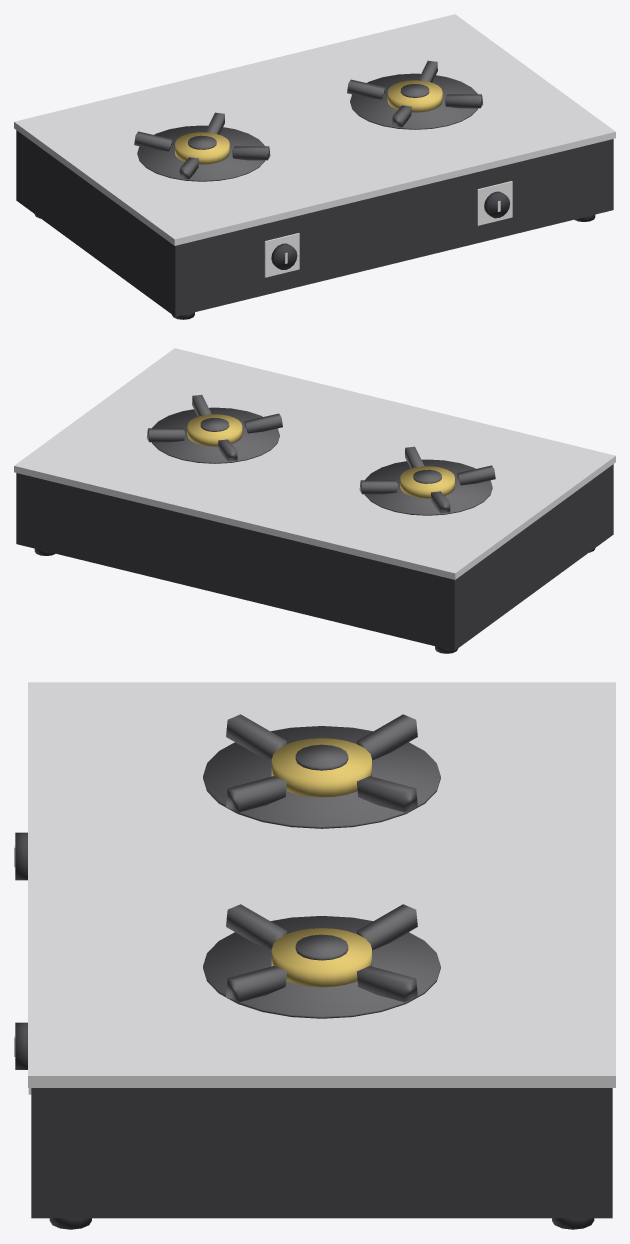
Rendered from Stove.glb.
The picture shows the model from 3 angles, top to bottom: view 1: azimuth 30°, elevation 25°; view 2: azimuth 150°, elevation 25°; view 3: azimuth 270°, elevation 25°; orthographic projection. The views are drawn at different scales.
Parts seen in each view (by area): view 1: Stove_Top_Plate, Stove_Base_Chassis, Stove_Drip_Pan_1, Stove_Drip_Pan_2, Stove_Burner_Head_2, Stove_Burner_Head_1, Stove_Dial_Plate_2, Stove_Dial_Plate_1, Stove_Grate_Finger_1_2, Stove_Grate_Finger_1_4, Stove_Grate_Finger_2_2, Stove_Grate_Finger_2_4 (+2 smaller); view 2: Stove_Top_Plate, Stove_Base_Chassis, Stove_Drip_Pan_1, Stove_Drip_Pan_2, Stove_Burner_Head_2, Stove_Burner_Head_1, Stove_Grate_Finger_1_1, Stove_Grate_Finger_1_3, Stove_Grate_Finger_2_1, Stove_Grate_Finger_2_3; view 3: Stove_Top_Plate, Stove_Base_Chassis, Stove_Drip_Pan_1, Stove_Drip_Pan_2, Stove_Burner_Head_1, Stove_Burner_Head_2, Stove_Grate_Finger_2_1, Stove_Grate_Finger_1_2, Stove_Grate_Finger_2_2, Stove_Grate_Finger_1_1, Stove_Grate_Finger_1_3, Stove_Grate_Finger_1_4 (+4 smaller).
Part boxes in pixels (box(x1,y1,x2,y2)): Stove_Top_Plate: box(14, 14, 615, 245); Stove_Base_Chassis: box(16, 130, 613, 316); Stove_Drip_Pan_1: box(137, 125, 265, 181); Stove_Drip_Pan_2: box(350, 73, 477, 129); Stove_Burner_Head_2: box(387, 80, 442, 112); Stove_Burner_Head_1: box(175, 132, 229, 164); Stove_Dial_Plate_2: box(477, 181, 512, 225); Stove_Dial_Plate_1: box(264, 233, 299, 277); Stove_Grate_Finger_1_2: box(232, 146, 270, 160); Stove_Grate_Finger_1_4: box(134, 131, 172, 151); Stove_Grate_Finger_2_2: box(444, 94, 482, 108); Stove_Grate_Finger_2_4: box(347, 79, 385, 99); Stove_Top_Plate: box(14, 348, 615, 579); Stove_Base_Chassis: box(16, 464, 613, 650); Stove_Drip_Pan_1: box(364, 459, 492, 515); Stove_Drip_Pan_2: box(152, 407, 279, 463); Stove_Burner_Head_2: box(187, 414, 242, 446); Stove_Burner_Head_1: box(400, 466, 454, 498); Stove_Grate_Finger_1_1: box(359, 480, 397, 494); Stove_Grate_Finger_1_3: box(457, 465, 495, 485); Stove_Grate_Finger_2_1: box(147, 428, 185, 442); Stove_Grate_Finger_2_3: box(244, 413, 282, 433); Stove_Top_Plate: box(28, 682, 615, 1087); Stove_Base_Chassis: box(31, 1088, 612, 1218); Stove_Drip_Pan_1: box(203, 726, 440, 828); Stove_Drip_Pan_2: box(203, 916, 440, 1018); Stove_Burner_Head_1: box(271, 738, 371, 797); Stove_Burner_Head_2: box(271, 928, 371, 987); Stove_Grate_Finger_2_1: box(356, 966, 417, 1002); Stove_Grate_Finger_1_2: box(226, 776, 286, 812); Stove_Grate_Finger_2_2: box(226, 966, 286, 1002); Stove_Grate_Finger_1_1: box(357, 776, 417, 812); Stove_Grate_Finger_1_3: box(226, 714, 286, 760); Stove_Grate_Finger_1_4: box(356, 714, 417, 760).
Bounding box in the file's own units: 0.705 × 0.1564 × 0.4555.
